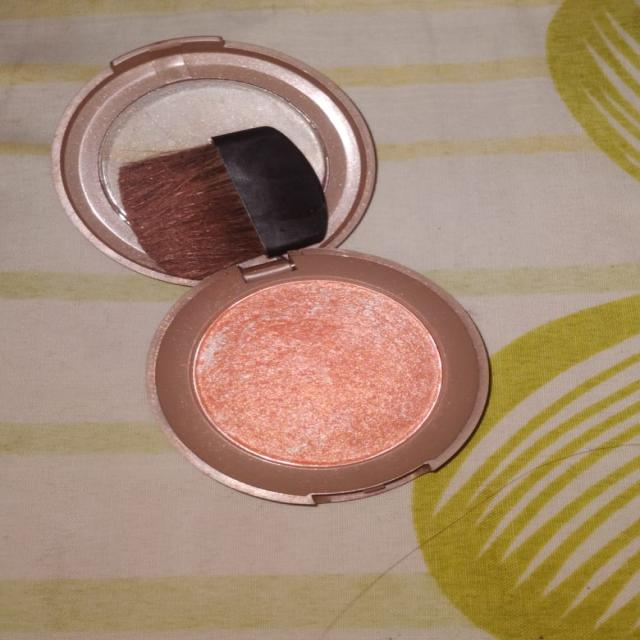brush: (102, 126, 320, 283)
highlighter: (189, 258, 442, 494)
